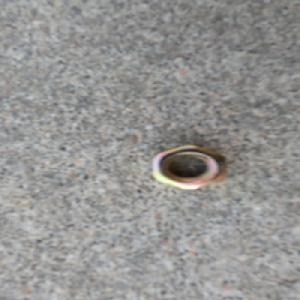Nut: (149, 143, 229, 192)
